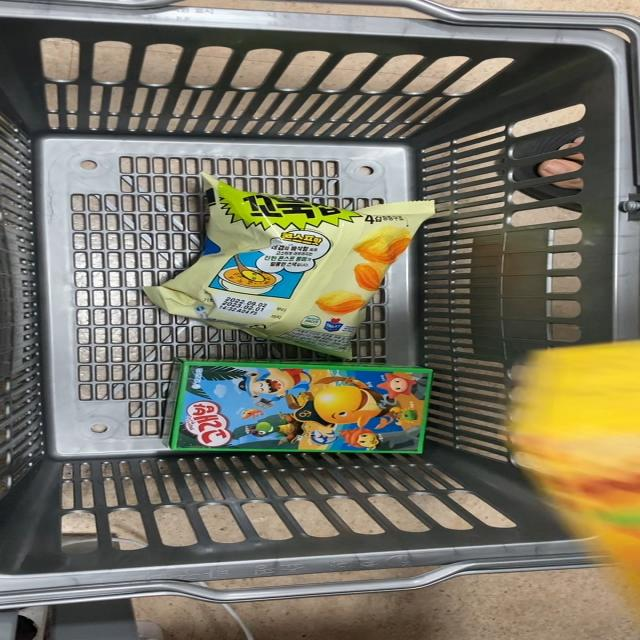ggobukchip: (129, 174, 424, 355)
goraebob: (155, 348, 446, 463)
